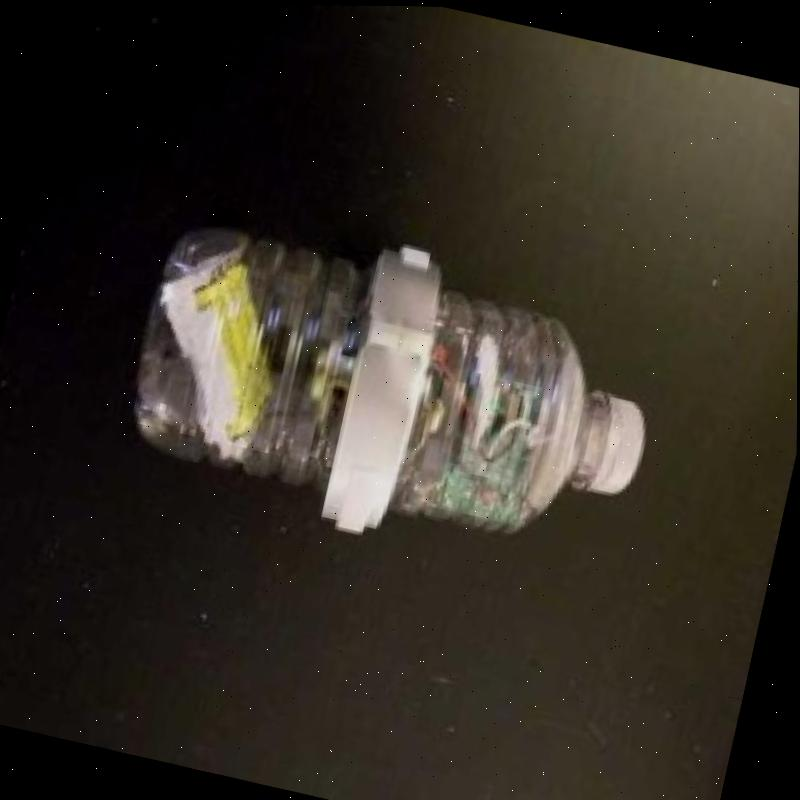botella: (114, 214, 673, 562)
